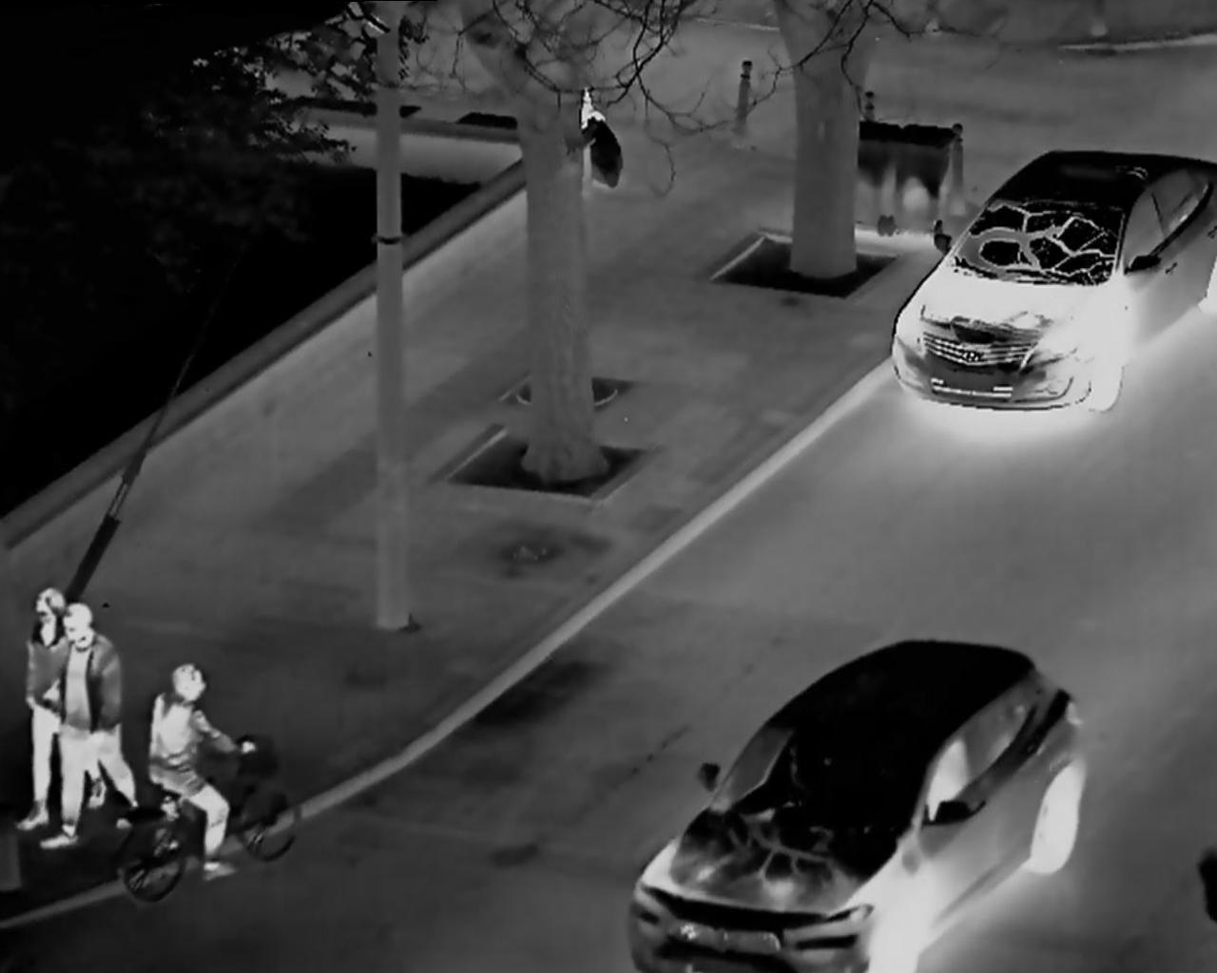person: (136, 639, 237, 896), (47, 589, 129, 849), (9, 572, 84, 839)
